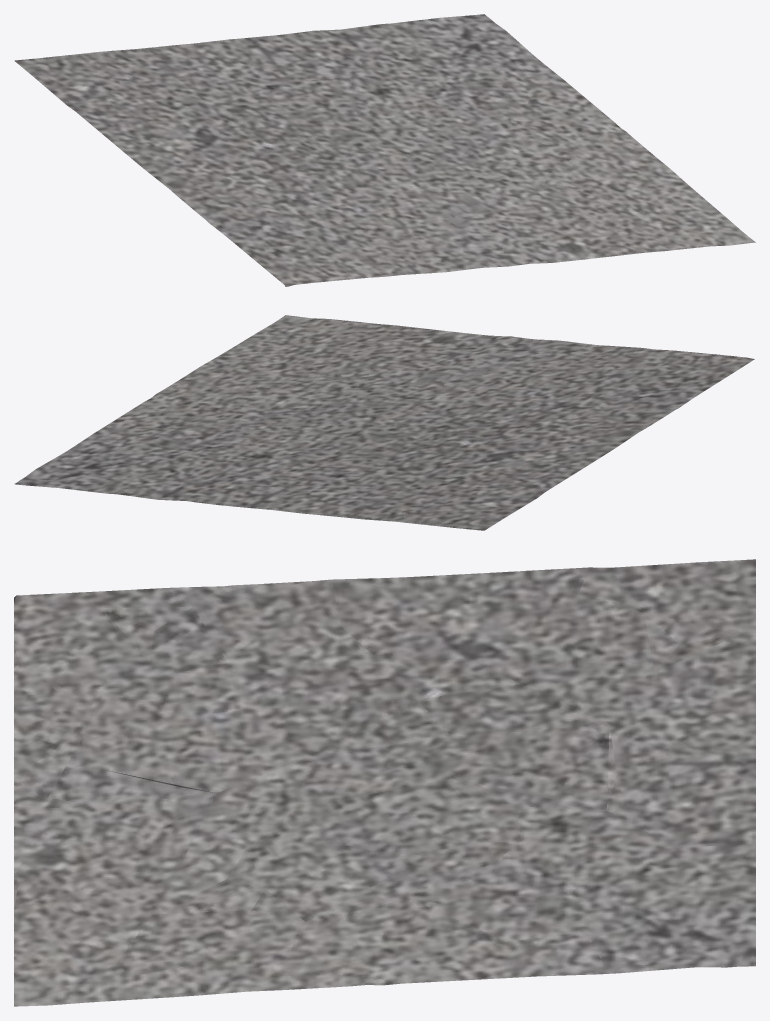
The picture shows the model from 3 angles, top to bottom: view 1: azimuth 30°, elevation 25°; view 2: azimuth 150°, elevation 25°; view 3: azimuth 270°, elevation 25°; orthographic projection. The views are drawn at different scales.
Bounding box in the file's own units: 0.8374 × 0.1665 × 0.8374.
3 materials, 3 textured.
